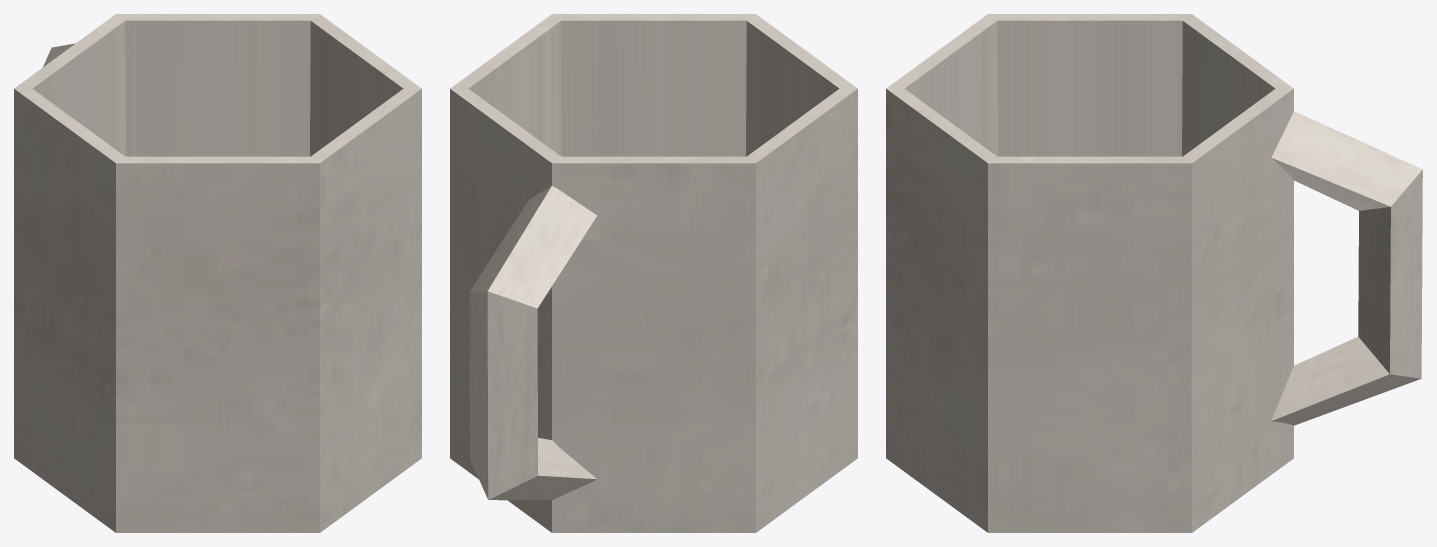
File: mug.glb
The picture shows the model from 3 angles, left to right: view 1: azimuth 30°, elevation 25°; view 2: azimuth 150°, elevation 25°; view 3: azimuth 270°, elevation 25°; orthographic projection.
Parts seen in each view (by area): view 1: mug; view 2: mug; view 3: mug.
Boxes of the visible parts, x1,y1,x2,y2 form: mug: (14,14,421,532); mug: (450,14,857,532); mug: (886,14,1422,532).
Size of the model in its own units: 0.1223 by 0.1412 by 0.1858.
1 material, 1 textured.
